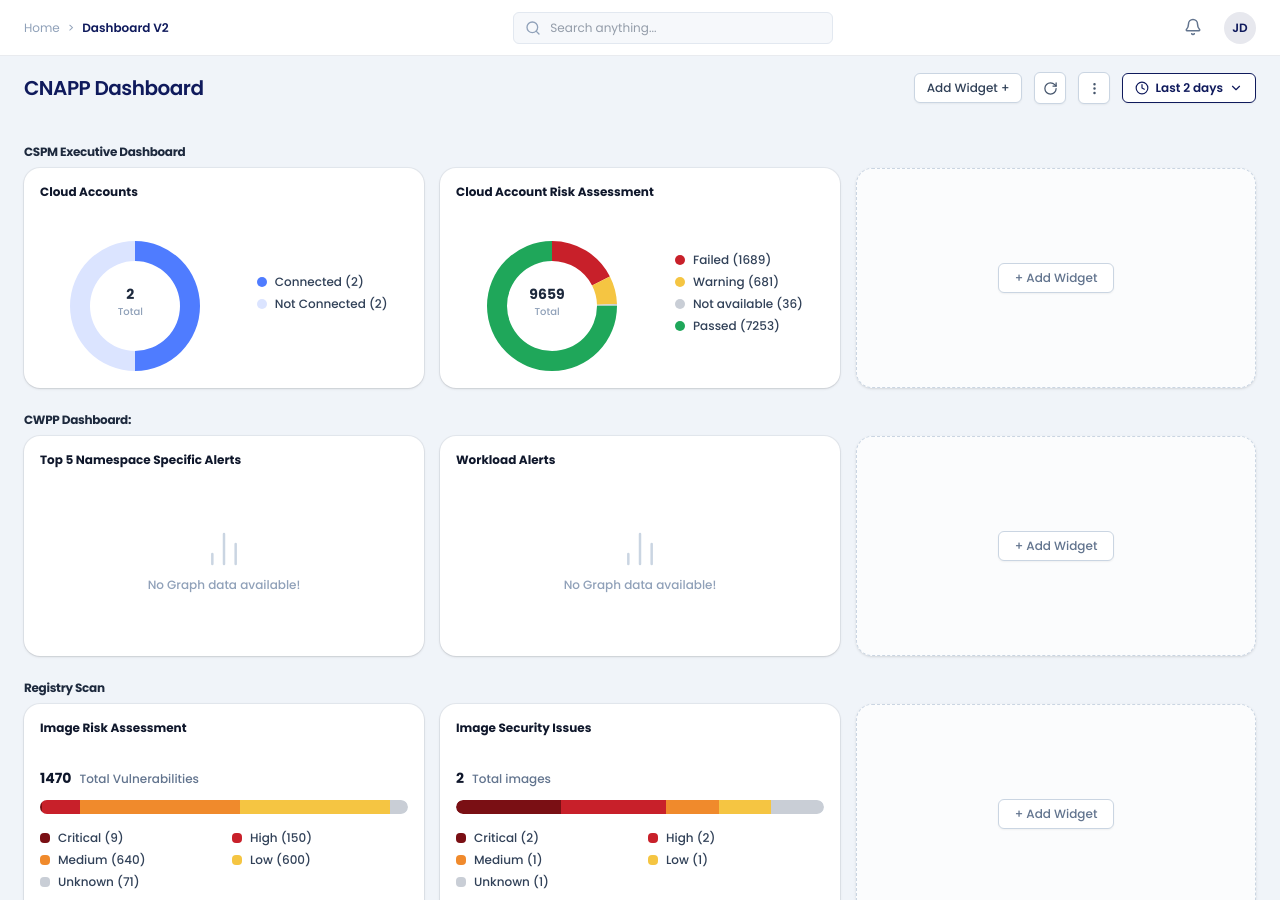
Test: Drawer Search (Phase 8a) › Create form is hidden while a search query is active
The image size is (1280, 900).
Click the button "Add Widget +": (968,88) [914,73,1022,103]
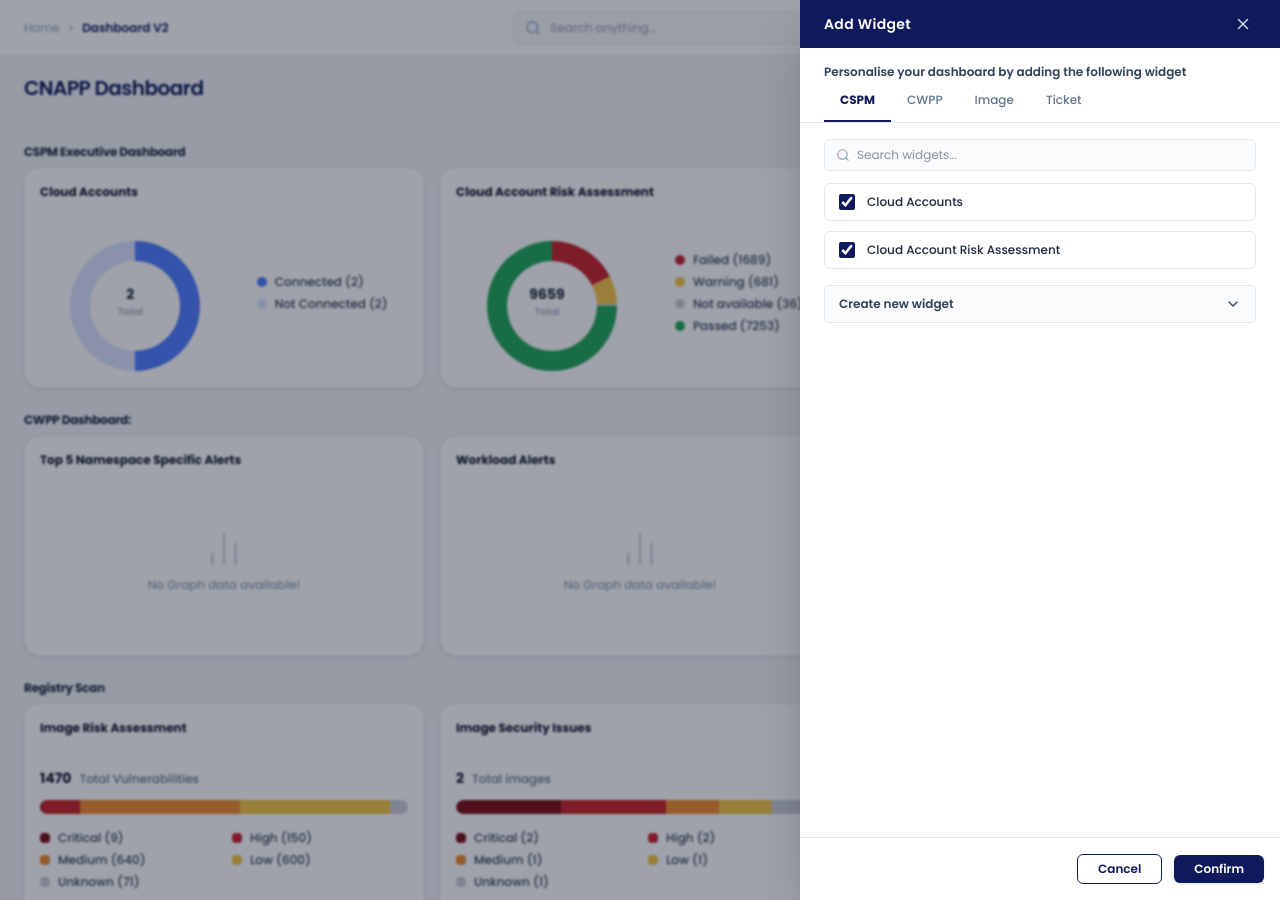
Check: the text "Create new widget" is shown, box [839,296,954,312]
In the search field labelled "Search widgets": (1040,155) [824,139,1256,171], type "Accounts"
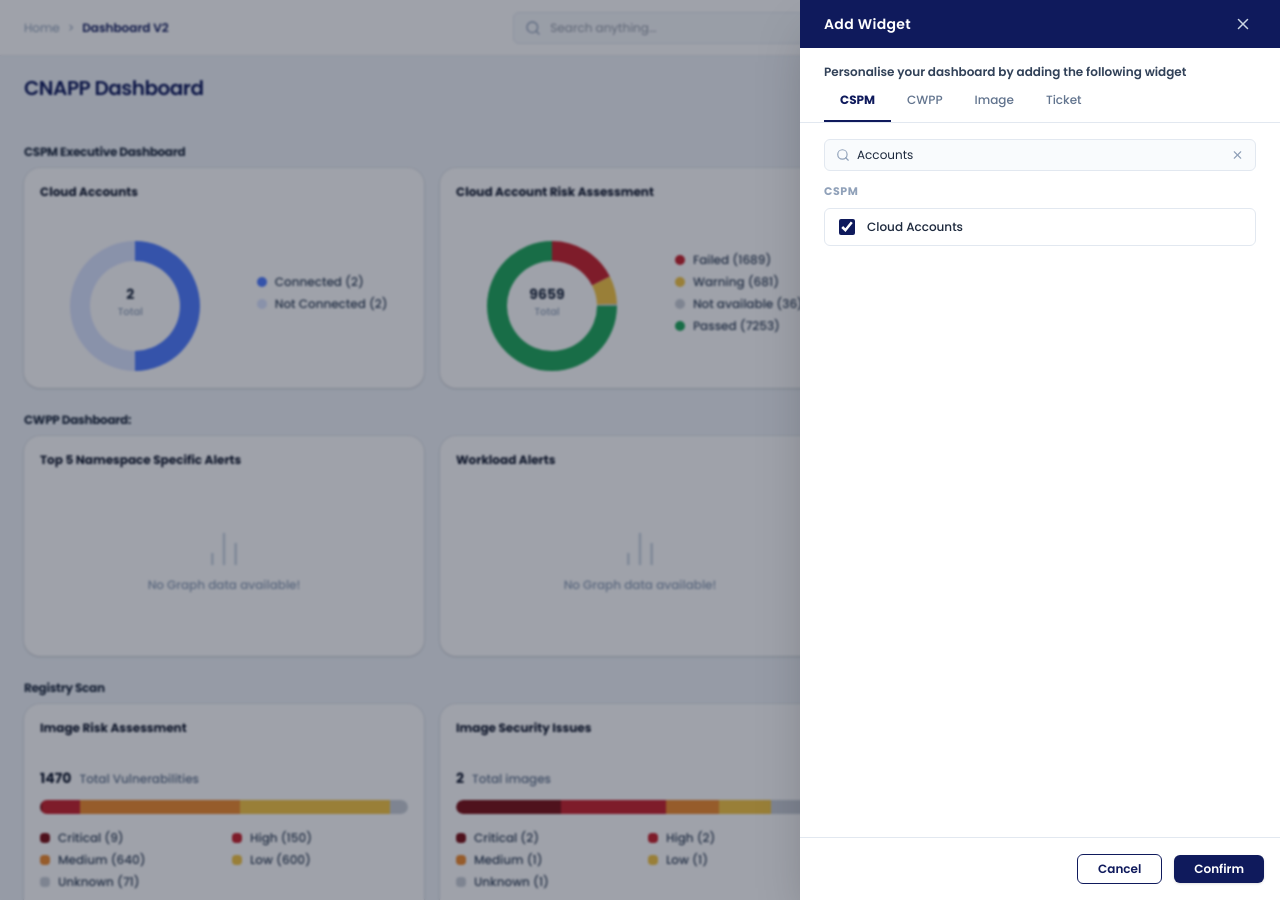
Check: the button "Create new widget" is gone
